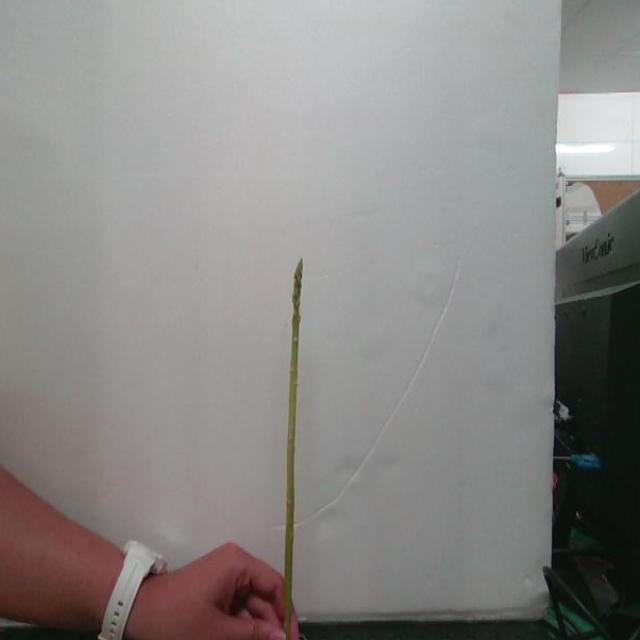aspargus: (283, 260, 306, 619)
